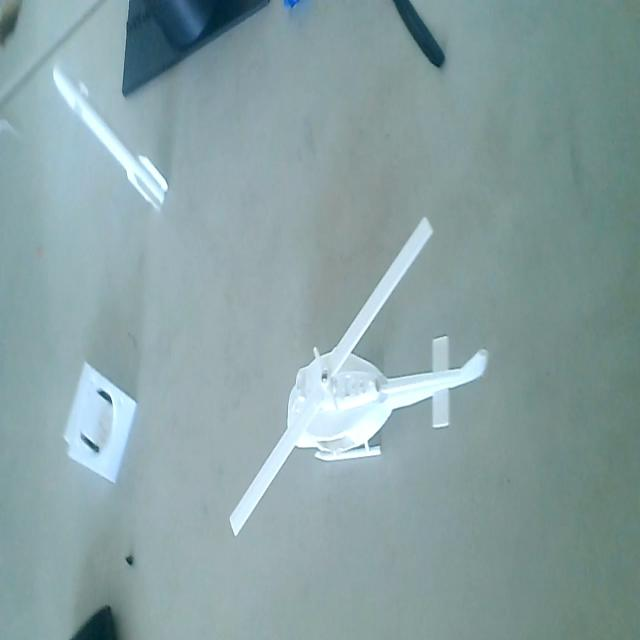Helicopter: (222, 212, 488, 542)
Rocket: (53, 54, 171, 225)
